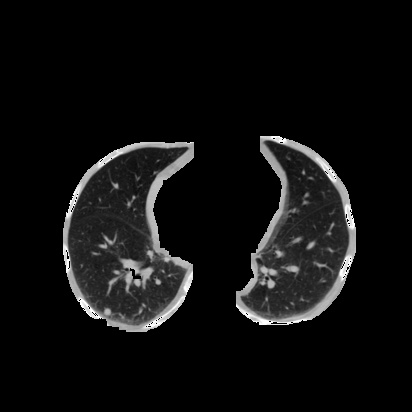PN: (103, 308, 111, 316)
